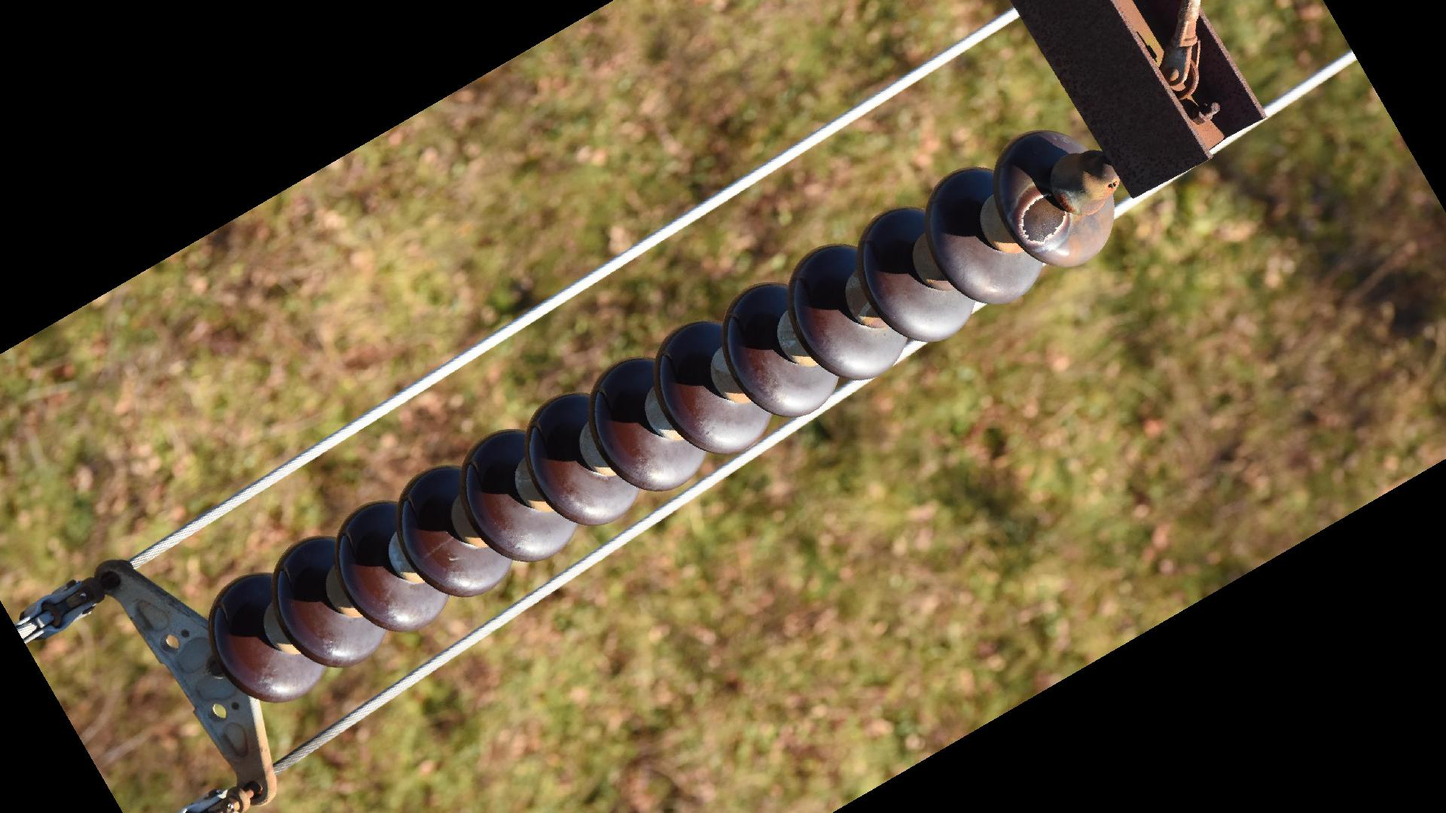insulator: (206, 122, 1115, 705)
insulator_flashover: (1017, 190, 1069, 248)
